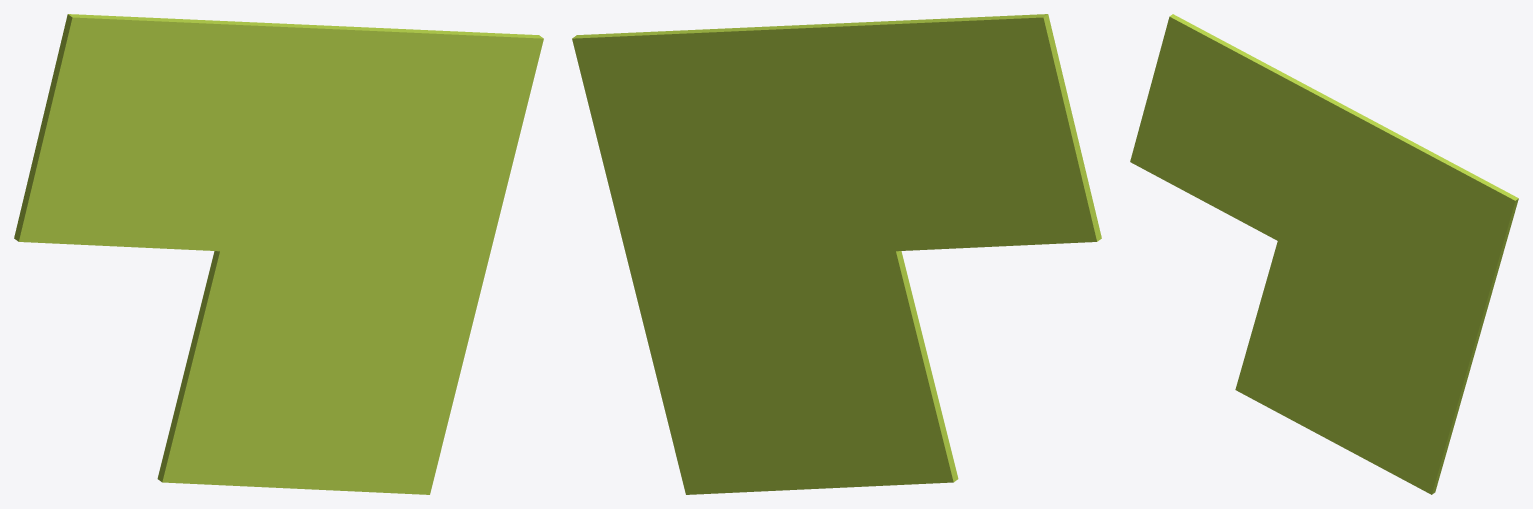
The picture shows the model from 3 angles, left to right: view 1: azimuth 30°, elevation 25°; view 2: azimuth 150°, elevation 25°; view 3: azimuth 330°, elevation 25°; orthographic projection. The views are drawn at different scales.
Visible parts, largest first — view 1: osm-way27917482-F0; view 2: osm-way27917482-F0; view 3: osm-way27917482-F0.
Part boxes in pixels (x1=…): osm-way27917482-F0: x1=14, y1=14, x2=543, y2=494; osm-way27917482-F0: x1=572, y1=14, x2=1101, y2=494; osm-way27917482-F0: x1=1130, y1=14, x2=1518, y2=494.
Size of the model in its own units: 9.51 by 9.77 by 0.15.
